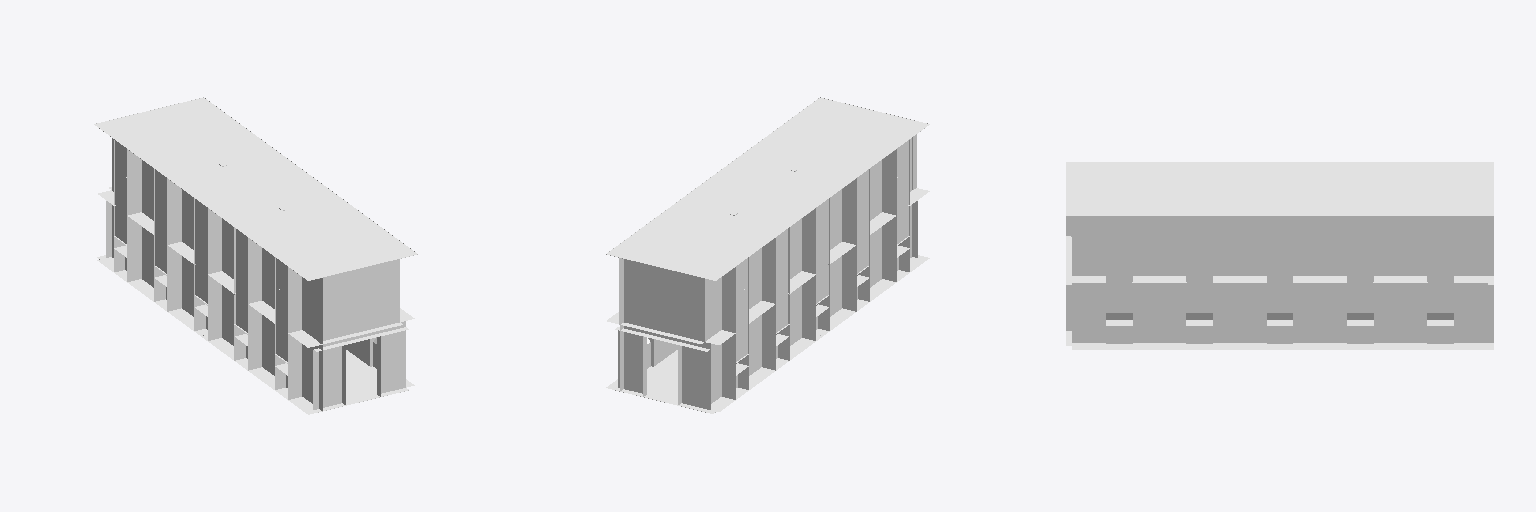
Rendered from LC_room2.obj.
3 views of the same model, side by side, from view 1: azimuth 30°, elevation 25°; view 2: azimuth 150°, elevation 25°; view 3: azimuth 270°, elevation 25° (orthographic).
Visible parts, largest first — view 1: LC_room2; view 2: LC_room2; view 3: LC_room2.
Part boxes in pixels (x1,y1,x2,y2): LC_room2: (94,97,417,414); LC_room2: (606,97,929,413); LC_room2: (1066,162,1493,349).
Size of the model in its own units: 6.08 by 7.08 by 20.48.